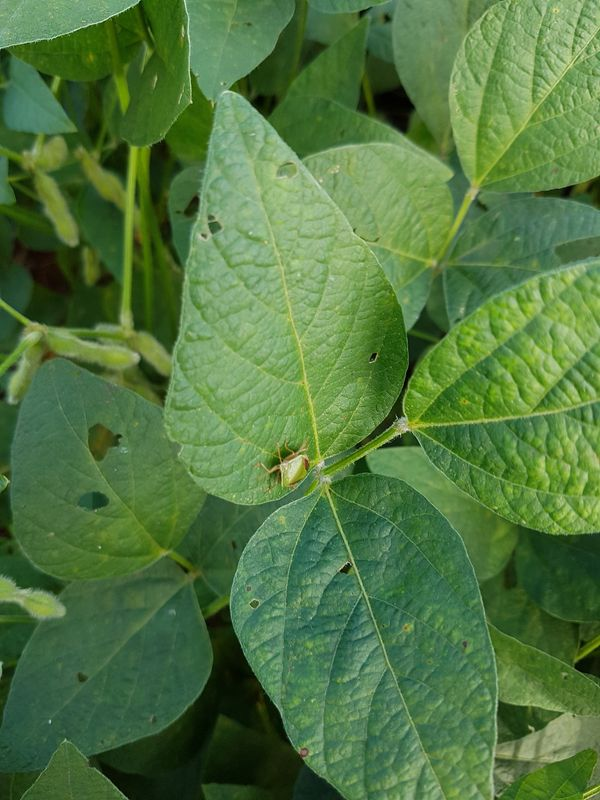Edessa_meditabunda: (250, 434, 320, 501)
